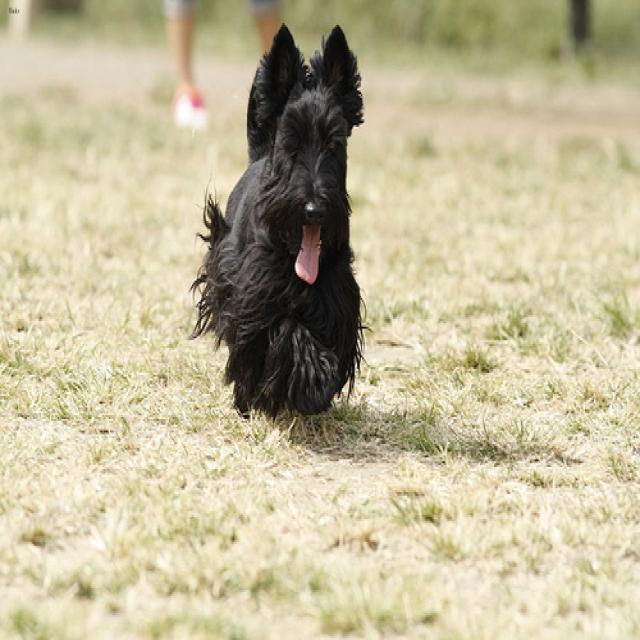dog-scottish_terrier: (183, 15, 376, 429)
